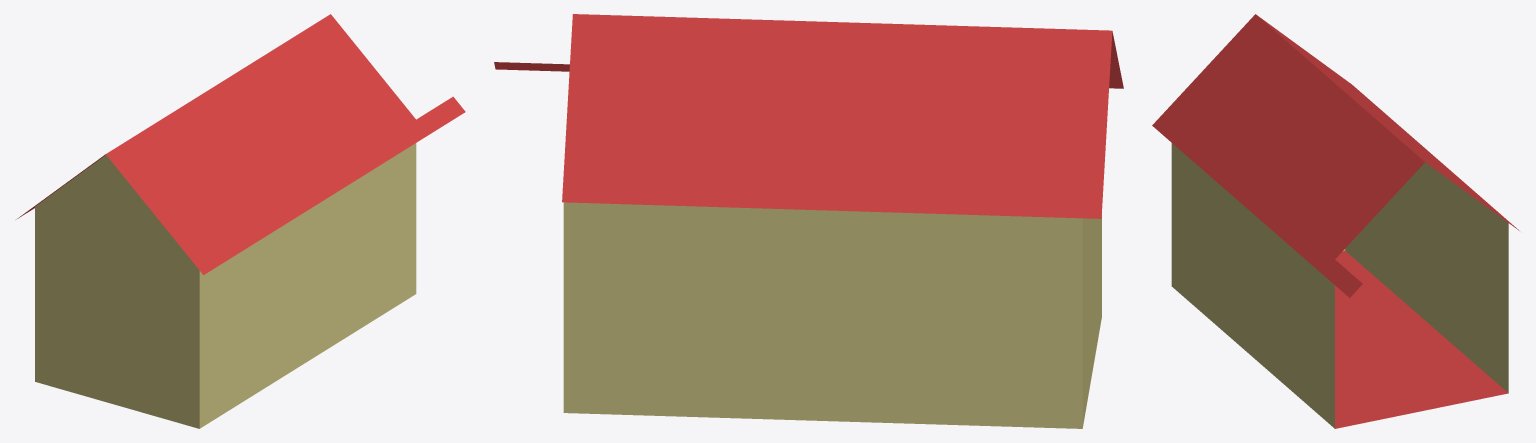
3 renders of one model, left to right at view 1: azimuth 30°, elevation 25°; view 2: azimuth 150°, elevation 25°; view 3: azimuth 270°, elevation 25°, orthographic. The views are drawn at different scales.
Bounding box in the file's own units: 25.78 × 18.87 × 13.98.
